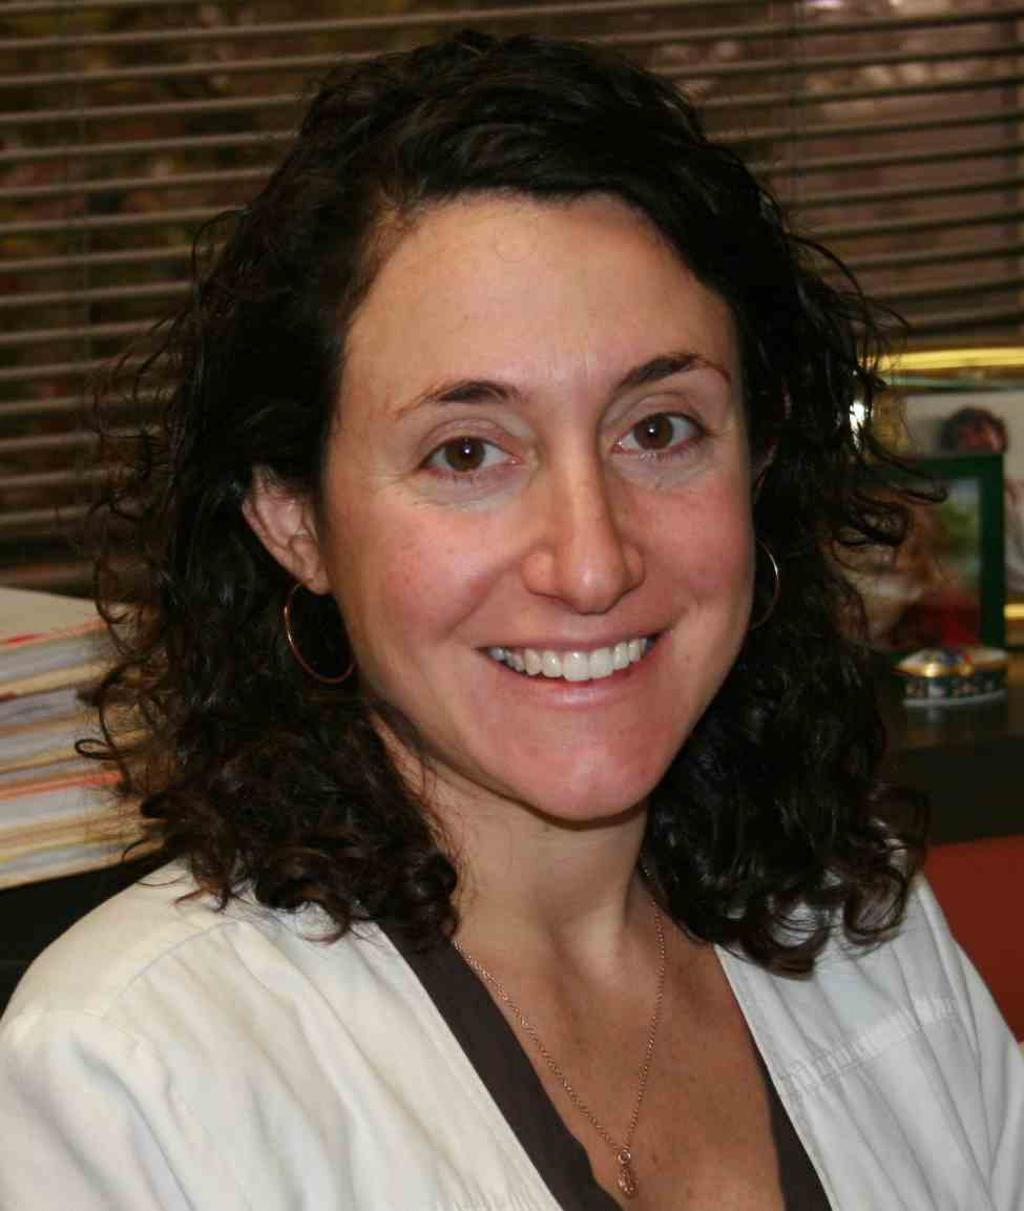face: (326, 206, 759, 819)
